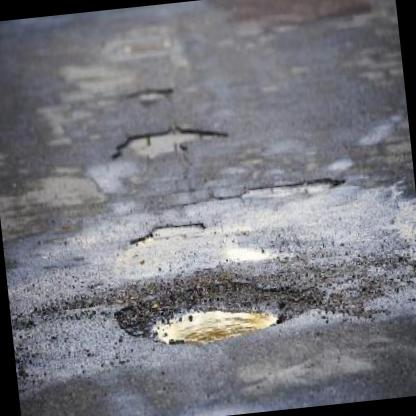pothole: (111, 266, 324, 351), (108, 122, 228, 163), (238, 172, 344, 198), (128, 219, 206, 245), (124, 84, 174, 103)
